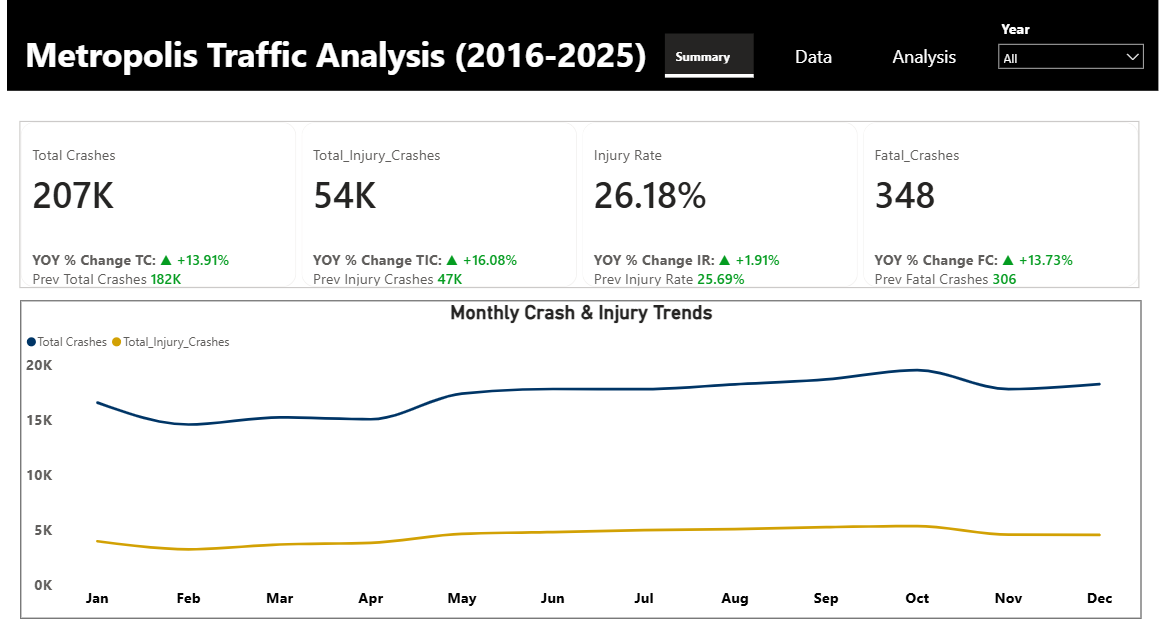

What the dashboard file says about the page in this screenshot:
{"tool":"powerbi","page":{"name":"Summary","canvas":[1280,720],"ordinal":0},"visuals":[{"type":"shape","box":[0,3.8,1279.4,102],"z":0},{"type":"lineChart","title":"Monthly Crash & Injury Trends","fields":{"Y":["_Measures.Total Crashes","_Measures.Total_Injury_Crashes"],"Category":["DateTable.Month Name"]},"box":[15.1,338.3,1245.4,353.4],"z":1000},{"type":"cardVisual","fields":{"Data":["_Measures.TotalCrashes","_Measures.Total_Injury_Crashes","_Measures.Injury Rate","_Measures.Fatal_Crashes"]},"box":[0,124.7,1273.7,213.5],"z":2000},{"type":"slicer","fields":{"Values":["DateTable.Year"]},"box":[1092.3,20.8,181.4,75.6],"z":3000},{"type":"pageNavigator","box":[716.2,41.6,360.9,49.1],"z":4000},{"type":"textbox","box":[15.1,34,716.2,62.4],"z":5000}]}

Visuals, with their boxes on the page's 1280x720 design canvas (x1, y1, x2, y2). These are canvas units, not pixel positions in the 1167x628 screenshot, which may show the page scaled, cropped or inside an application window:
shape: select_region(0, 4, 1279, 106)
"Monthly Crash & Injury Trends" lineChart: select_region(15, 338, 1260, 692)
cardVisual - _Measures.TotalCrashes x _Measures.Total_Injury_Crashes: select_region(0, 125, 1274, 338)
slicer - DateTable.Year: select_region(1092, 21, 1274, 96)
pageNavigator: select_region(716, 42, 1077, 91)
textbox: select_region(15, 34, 731, 96)
